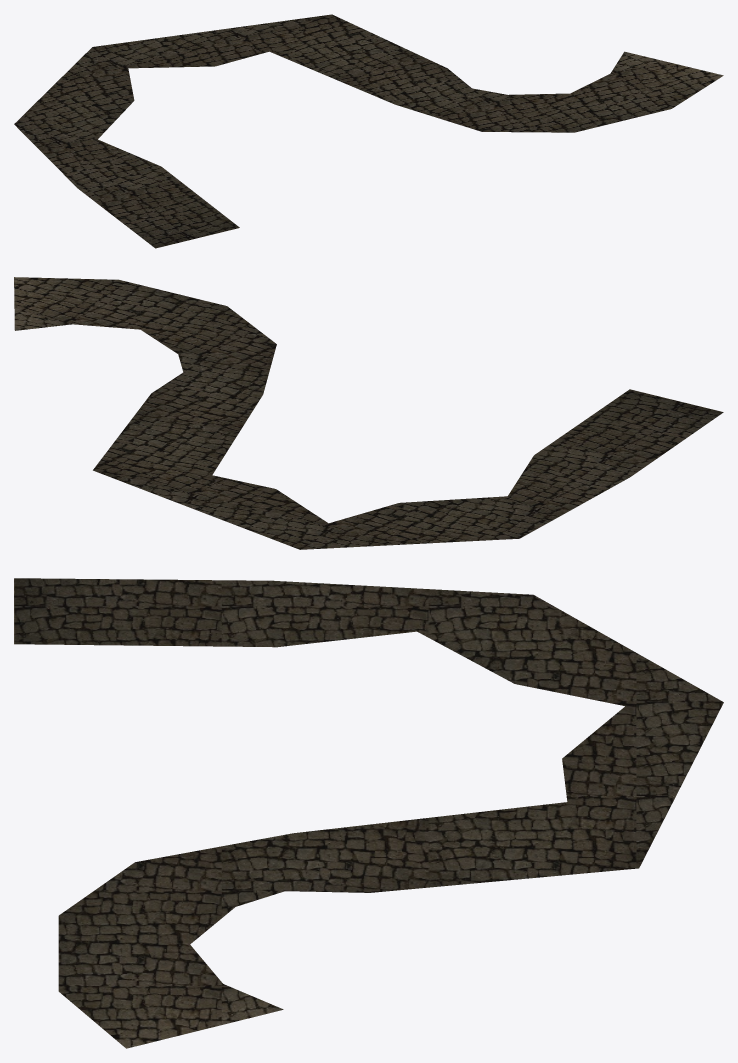
The model's file is naaaaav.gltf.
3 renders of one model, top to bottom at view 1: azimuth 30°, elevation 25°; view 2: azimuth 150°, elevation 25°; view 3: azimuth 270°, elevation 25°, orthographic. The views are drawn at different scales.
Visible parts, largest first — view 1: Plane.015; view 2: Plane.015; view 3: Plane.015.
Part boxes in pixels (left/top/right/bottom): Plane.015: left=14, top=14, right=723, bottom=248; Plane.015: left=14, top=277, right=723, bottom=549; Plane.015: left=14, top=578, right=723, bottom=1048.
Bounding box in the file's own units: 32.79 × 6.81e-06 × 20.91.
1 material, 1 textured.
